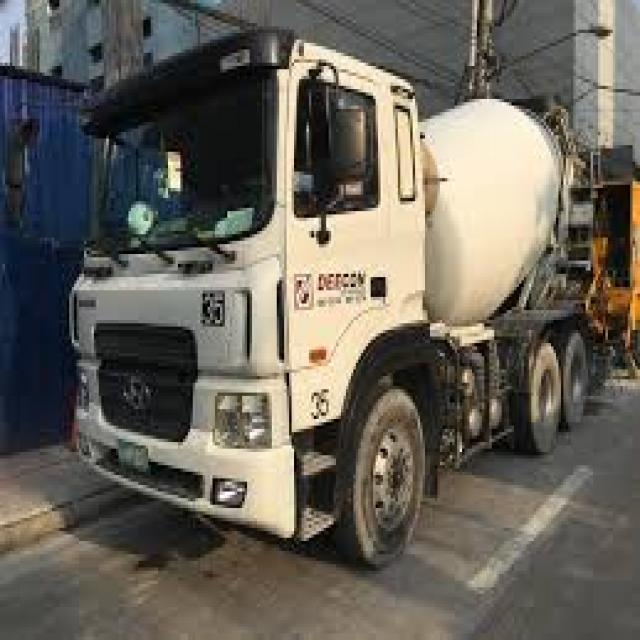Mixer Truck: (64, 24, 602, 573)
